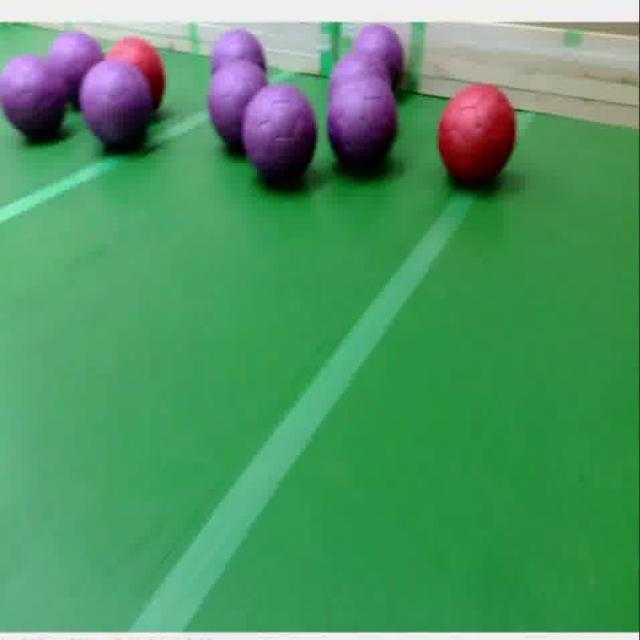purple_ball: (328, 76, 398, 180), (244, 89, 320, 183), (80, 66, 152, 153), (0, 59, 69, 142), (208, 62, 272, 148), (48, 31, 106, 108), (354, 22, 405, 84), (211, 28, 267, 72), (332, 57, 389, 80)
